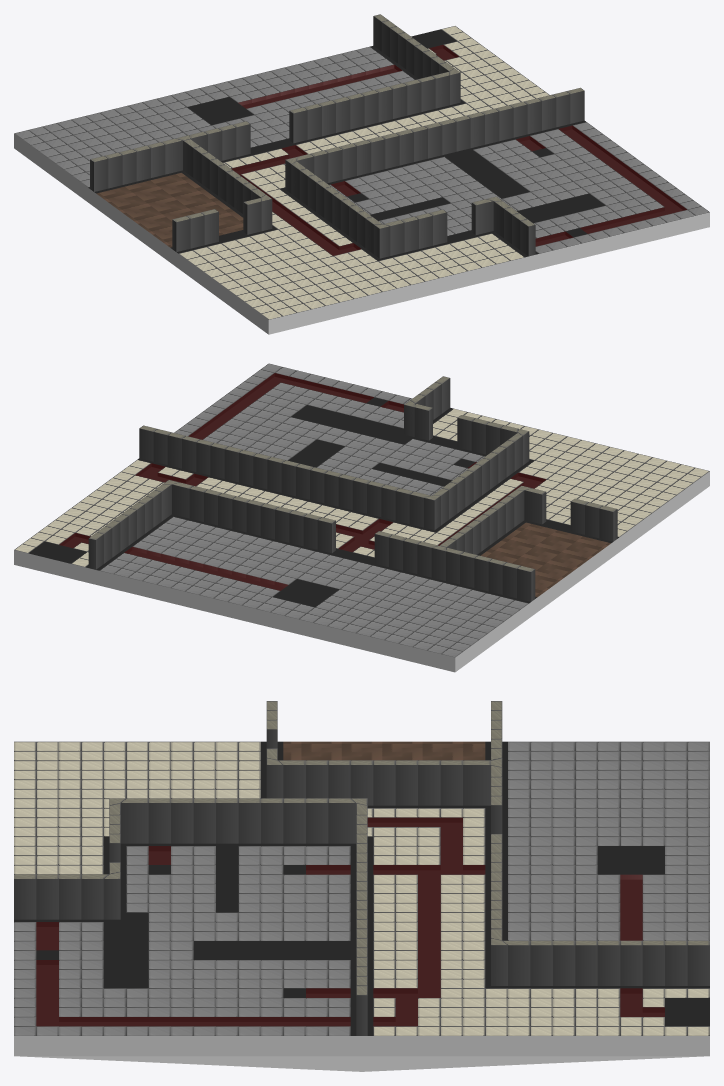
The model's file is Temp Vault layout update.FBX.
3 renders of one model, top to bottom at view 1: azimuth 30°, elevation 25°; view 2: azimuth 150°, elevation 25°; view 3: azimuth 270°, elevation 25°, orthographic. The views are drawn at different scales.
Visible parts, largest first — view 1: Vault Floor Layout, All rooms Walls, Land Chunk, Wire Cover; view 2: Vault Floor Layout, All rooms Walls, Land Chunk, Wire Cover; view 3: Vault Floor Layout, All rooms Walls, Land Chunk, Wire Cover.
Part boxes in pixels (x1,y1,x2,y2): Vault Floor Layout: (14, 26, 709, 319); All rooms Walls: (90, 14, 584, 258); Land Chunk: (14, 133, 709, 334); Wire Cover: (232, 45, 686, 255); Vault Floor Layout: (14, 363, 709, 657); All rooms Walls: (88, 376, 617, 601); Land Chunk: (14, 471, 709, 672); Wire Cover: (59, 373, 545, 590); Vault Floor Layout: (14, 741, 709, 1035); All rooms Walls: (14, 701, 709, 1035); Land Chunk: (14, 1036, 709, 1071); Wire Cover: (36, 818, 664, 1025).
Size of the model in its own units: 31 by 11 by 31.
Materials: 6 (4 with a texture image).
